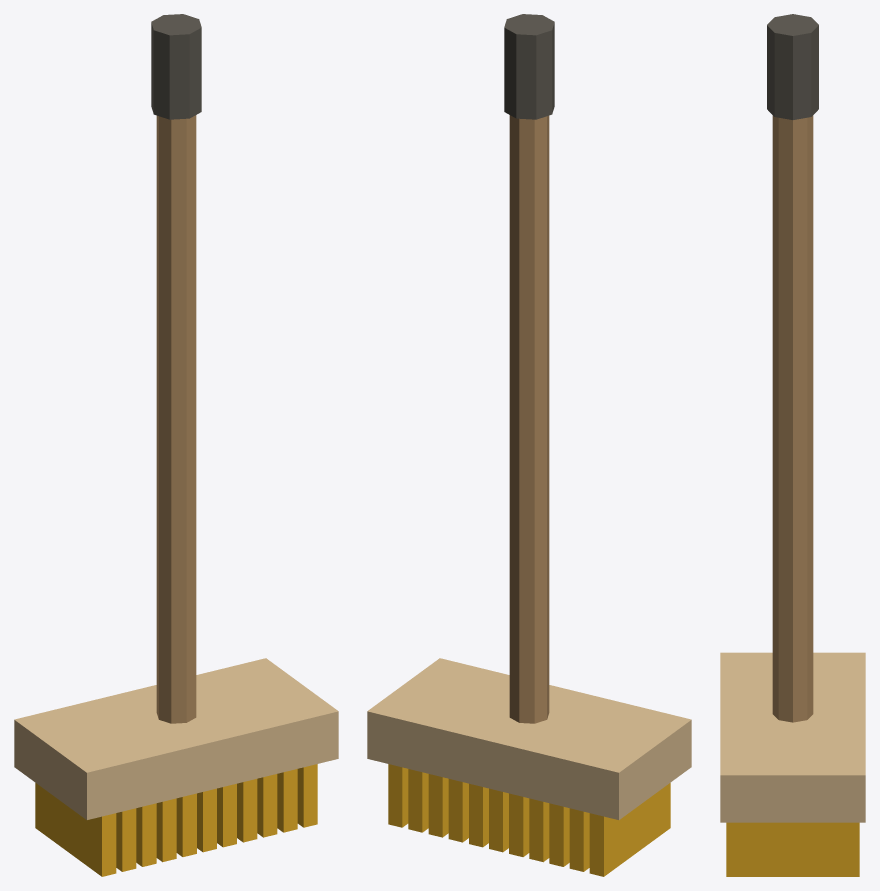
The model's file is broom.glb.
3 views of the same model, side by side, from view 1: azimuth 30°, elevation 25°; view 2: azimuth 150°, elevation 25°; view 3: azimuth 270°, elevation 25° (orthographic).
Parts seen in each view (by area): view 1: broom; view 2: broom; view 3: broom.
Part boxes in pixels (x1,y1,x2,y2): broom: (14,14,338,876); broom: (367,14,691,876); broom: (720,14,865,876).
Size of the model in its own units: 0.5 by 1.52 by 0.25.
